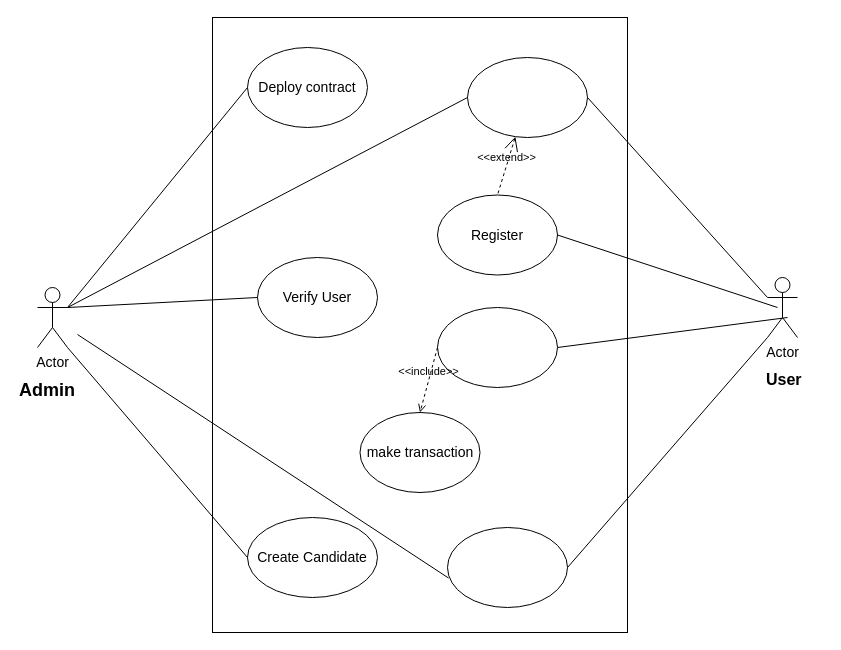
Some shapes in this 841 by 650 pixel diagram are drawn without their labels. The shapes that lost their labels are listed below. From the top down, each one's centre as x and y in pixels, then its label:
the point at 527,97: Login
the point at 497,347: Cast Vote
the point at 507,567: see result
